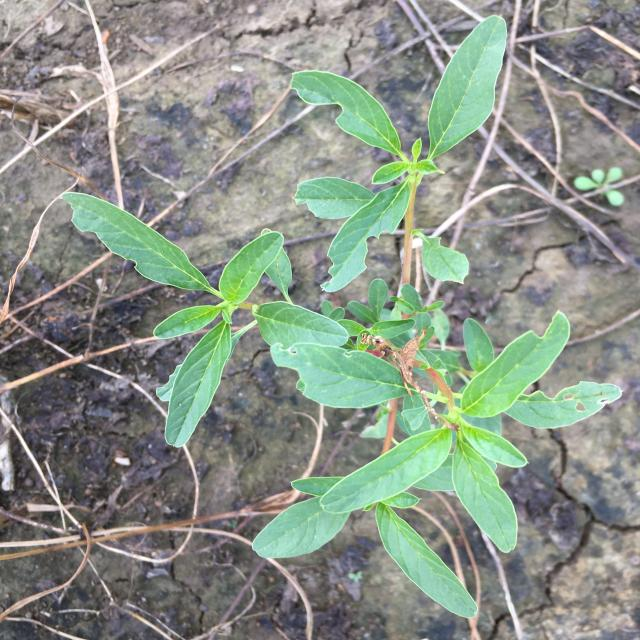Waterhemp: (60, 14, 623, 618)
